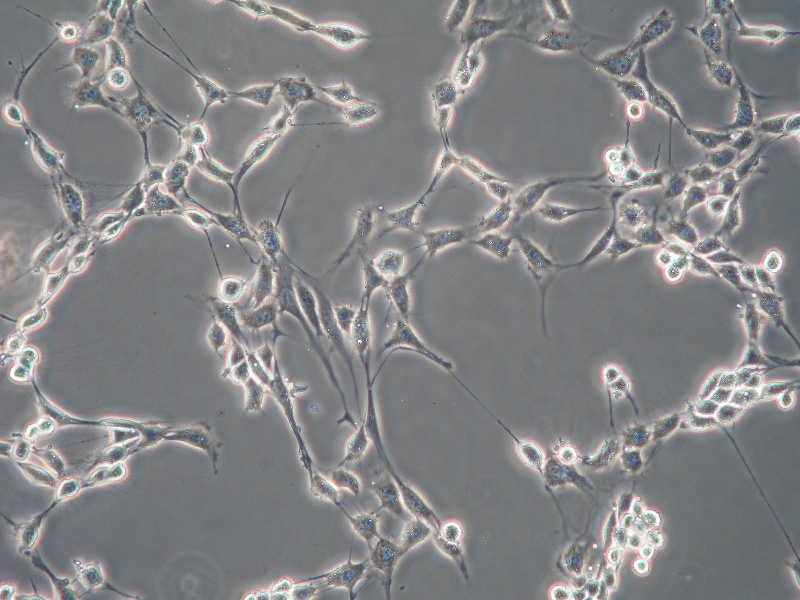cancer: (562, 528, 600, 579), (30, 227, 66, 274), (195, 152, 239, 189), (591, 43, 638, 77), (289, 281, 321, 330), (274, 77, 315, 115), (191, 73, 232, 110), (511, 179, 553, 215), (541, 457, 584, 492), (13, 459, 60, 491), (579, 435, 623, 469), (450, 49, 486, 90), (55, 179, 86, 226), (396, 479, 430, 521), (169, 425, 215, 456), (266, 5, 313, 35), (317, 22, 366, 50), (123, 94, 158, 133), (30, 135, 64, 175), (517, 236, 551, 275), (729, 81, 756, 130), (245, 129, 285, 162), (143, 185, 182, 218), (638, 10, 677, 43), (459, 16, 500, 47), (215, 210, 250, 245), (71, 77, 106, 111), (476, 199, 511, 233), (253, 219, 282, 260), (81, 10, 114, 46), (647, 83, 680, 119), (30, 445, 69, 475), (709, 260, 745, 292), (38, 267, 69, 304), (13, 520, 44, 557), (420, 229, 467, 253), (84, 462, 127, 488), (457, 152, 493, 183), (389, 322, 425, 353), (342, 424, 369, 465), (757, 289, 786, 327), (687, 128, 734, 151), (741, 24, 790, 46), (683, 403, 720, 432), (373, 483, 402, 520), (697, 19, 726, 56), (226, 341, 249, 387), (668, 217, 702, 248), (246, 264, 273, 303), (15, 304, 50, 334), (238, 83, 278, 109), (326, 563, 366, 589), (587, 226, 615, 262), (381, 203, 418, 230), (516, 439, 546, 472), (350, 311, 372, 356), (722, 194, 744, 239), (362, 264, 386, 305), (537, 200, 579, 223), (341, 102, 378, 128), (244, 299, 278, 327), (176, 122, 211, 149), (736, 148, 763, 183), (72, 43, 98, 79), (370, 539, 401, 569), (349, 513, 380, 543), (609, 229, 639, 260), (536, 30, 576, 53), (306, 473, 337, 502), (706, 58, 735, 89), (352, 206, 375, 245), (444, 1, 472, 33), (479, 233, 511, 261), (97, 212, 124, 245), (612, 78, 649, 102), (630, 169, 666, 193), (741, 304, 762, 345), (330, 468, 360, 496), (715, 166, 743, 195), (619, 199, 646, 229), (137, 162, 168, 188), (404, 519, 430, 550), (72, 232, 91, 274), (329, 302, 353, 335), (389, 279, 411, 315), (77, 562, 105, 590), (217, 275, 245, 303), (651, 412, 679, 440), (684, 182, 707, 216), (431, 79, 457, 109), (735, 261, 760, 292), (621, 424, 653, 448), (105, 39, 128, 72), (698, 369, 727, 395), (240, 384, 265, 414), (267, 377, 292, 407), (728, 387, 760, 410), (619, 449, 646, 476), (206, 321, 226, 357), (433, 102, 457, 132), (184, 206, 212, 231), (740, 342, 768, 367), (764, 380, 800, 399), (756, 114, 787, 136), (606, 376, 631, 403), (2, 101, 26, 129), (635, 222, 663, 246), (254, 343, 276, 373), (432, 536, 463, 557), (12, 435, 36, 462), (121, 187, 144, 215), (98, 443, 130, 463), (223, 361, 253, 382), (688, 162, 719, 182), (55, 477, 83, 499), (100, 415, 144, 429), (543, 1, 571, 23), (704, 1, 738, 19), (323, 84, 355, 103), (754, 265, 777, 291), (688, 257, 716, 278), (230, 1, 268, 16), (106, 67, 129, 91), (441, 519, 465, 542), (666, 169, 685, 198), (434, 148, 456, 173), (714, 370, 741, 390), (706, 148, 736, 166), (707, 192, 726, 220), (3, 332, 27, 354), (695, 236, 724, 254), (57, 23, 80, 45), (705, 249, 741, 263), (718, 407, 745, 425), (618, 143, 636, 170), (762, 251, 784, 273), (557, 445, 580, 466), (624, 162, 644, 186), (290, 582, 316, 600), (9, 361, 30, 383), (646, 530, 667, 552), (601, 363, 623, 383), (742, 371, 766, 389), (691, 397, 716, 414), (20, 345, 42, 364), (641, 508, 663, 527), (665, 241, 691, 257), (631, 559, 651, 579), (784, 111, 800, 136), (38, 416, 55, 439), (613, 528, 631, 549), (625, 102, 646, 120), (548, 584, 570, 600), (606, 547, 624, 566), (779, 391, 796, 410), (1, 583, 19, 600), (621, 512, 639, 529), (603, 146, 621, 163), (603, 566, 615, 591), (594, 581, 609, 600), (272, 578, 292, 592), (24, 424, 41, 440), (664, 265, 680, 282), (640, 544, 656, 560), (632, 499, 648, 515), (586, 579, 598, 596), (655, 249, 668, 264), (571, 588, 586, 600), (272, 591, 290, 600), (254, 591, 270, 600), (243, 593, 257, 600)
